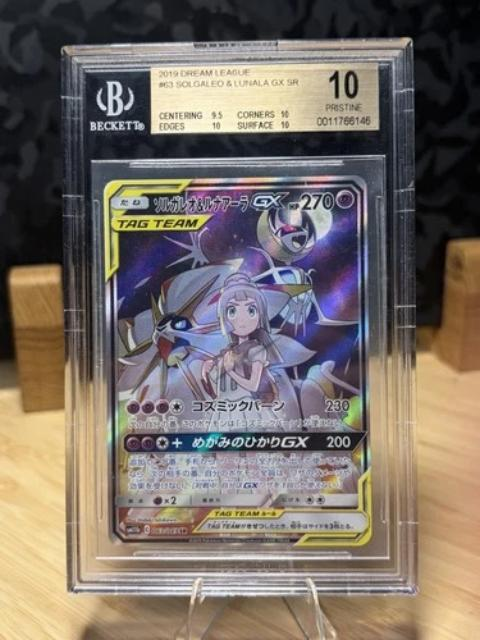Card: (99, 172, 378, 549)
Name: (150, 189, 296, 215)
